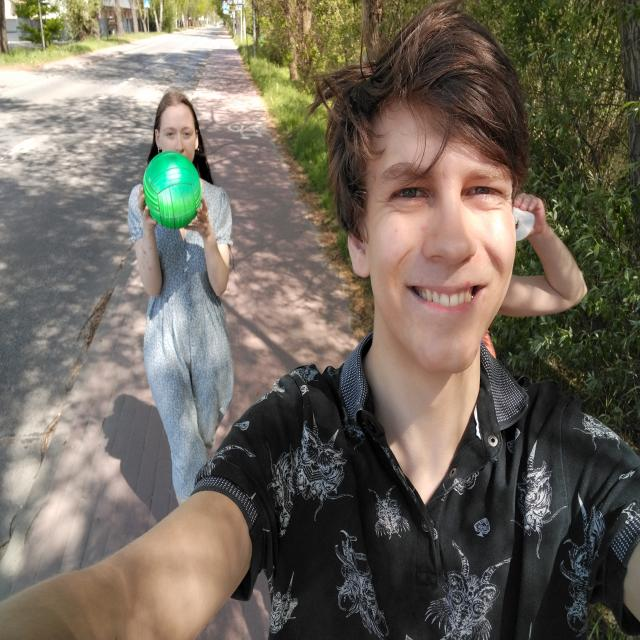zielona: (143, 152, 201, 227)
